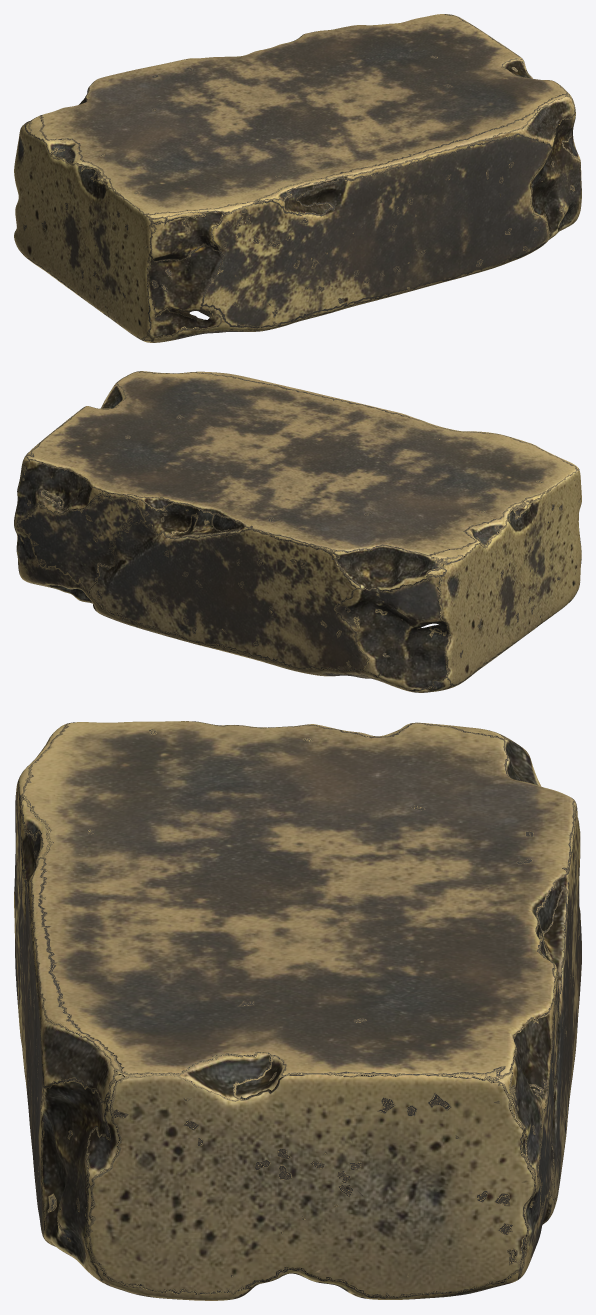
The picture shows the model from 3 angles, top to bottom: view 1: azimuth 30°, elevation 25°; view 2: azimuth 150°, elevation 25°; view 3: azimuth 270°, elevation 25°; orthographic projection. The views are drawn at different scales.
Size of the model in its own units: 1.73 by 0.5158 by 1.14.
1 material, 1 textured.
